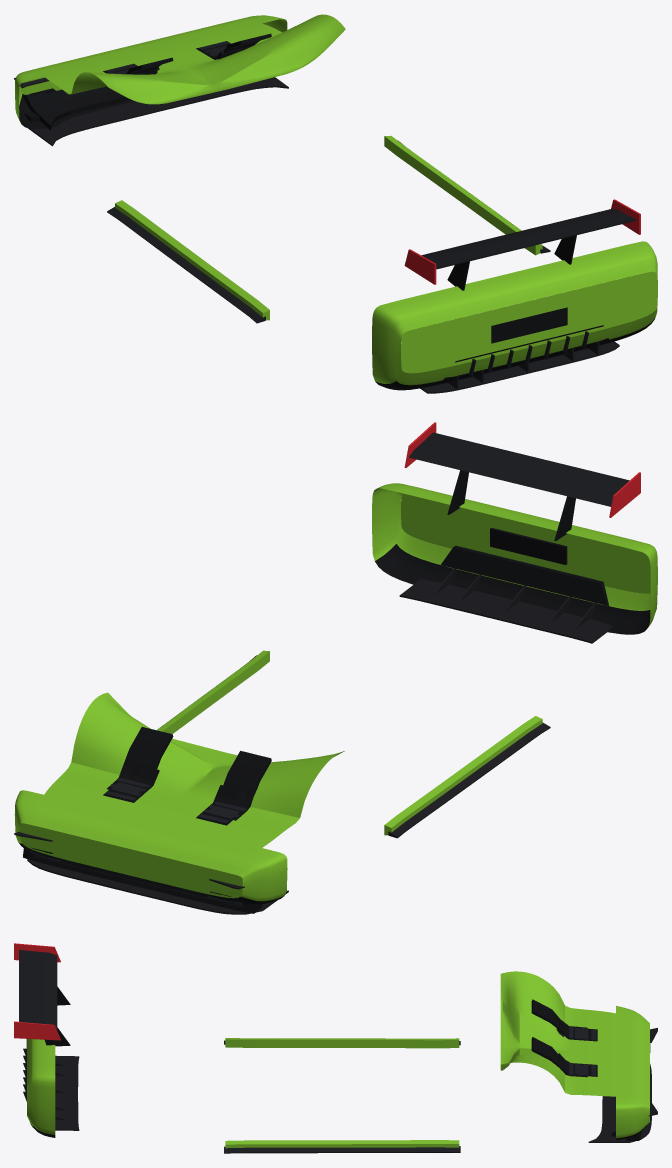
Rendered from kit_track.glb.
3 views of the same model, one above another, from view 1: azimuth 30°, elevation 25°; view 2: azimuth 150°, elevation 25°; view 3: azimuth 270°, elevation 25° (orthographic). The views are drawn at different scales.
Visible parts, largest first — view 1: bumper_front__track, bumper_rear__track, hood__track, skirts__track, spoiler__track; view 2: bumper_front__track, hood__track, bumper_rear__track, spoiler__track, skirts__track; view 3: hood__track, skirts__track, bumper_front__track, bumper_rear__track, spoiler__track.
Boxes of the visible parts, left/top/right/bottom form: bumper_front__track: left=14, top=15, right=657, bottom=373; bumper_rear__track: left=372, top=241, right=657, bottom=393; hood__track: left=44, top=14, right=345, bottom=104; skirts__track: left=107, top=135, right=550, bottom=323; spoiler__track: left=404, top=199, right=640, bottom=290; bumper_front__track: left=14, top=493, right=650, bottom=914; hood__track: left=44, top=692, right=344, bottom=847; bumper_rear__track: left=372, top=483, right=657, bottom=643; spoiler__track: left=404, top=422, right=640, bottom=540; skirts__track: left=157, top=650, right=550, bottom=838; hood__track: left=500, top=971, right=615, bottom=1096; skirts__track: left=224, top=1038, right=460, bottom=1153; bumper_front__track: left=588, top=1006, right=657, bottom=1142; bumper_rear__track: left=23, top=1039, right=79, bottom=1137; spoiler__track: left=14, top=943, right=70, bottom=1046.
Size of what is drawn, in the model's own units: 2.09 by 1 by 5.06.
